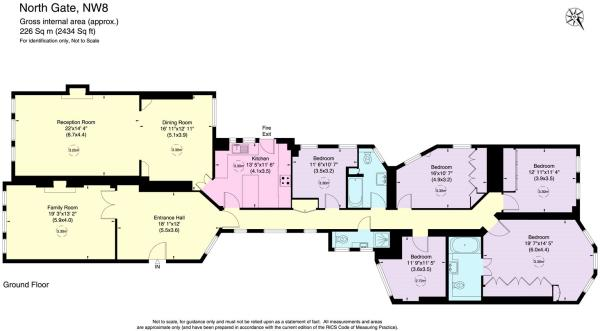GrossArea: (16, 16, 121, 36)
